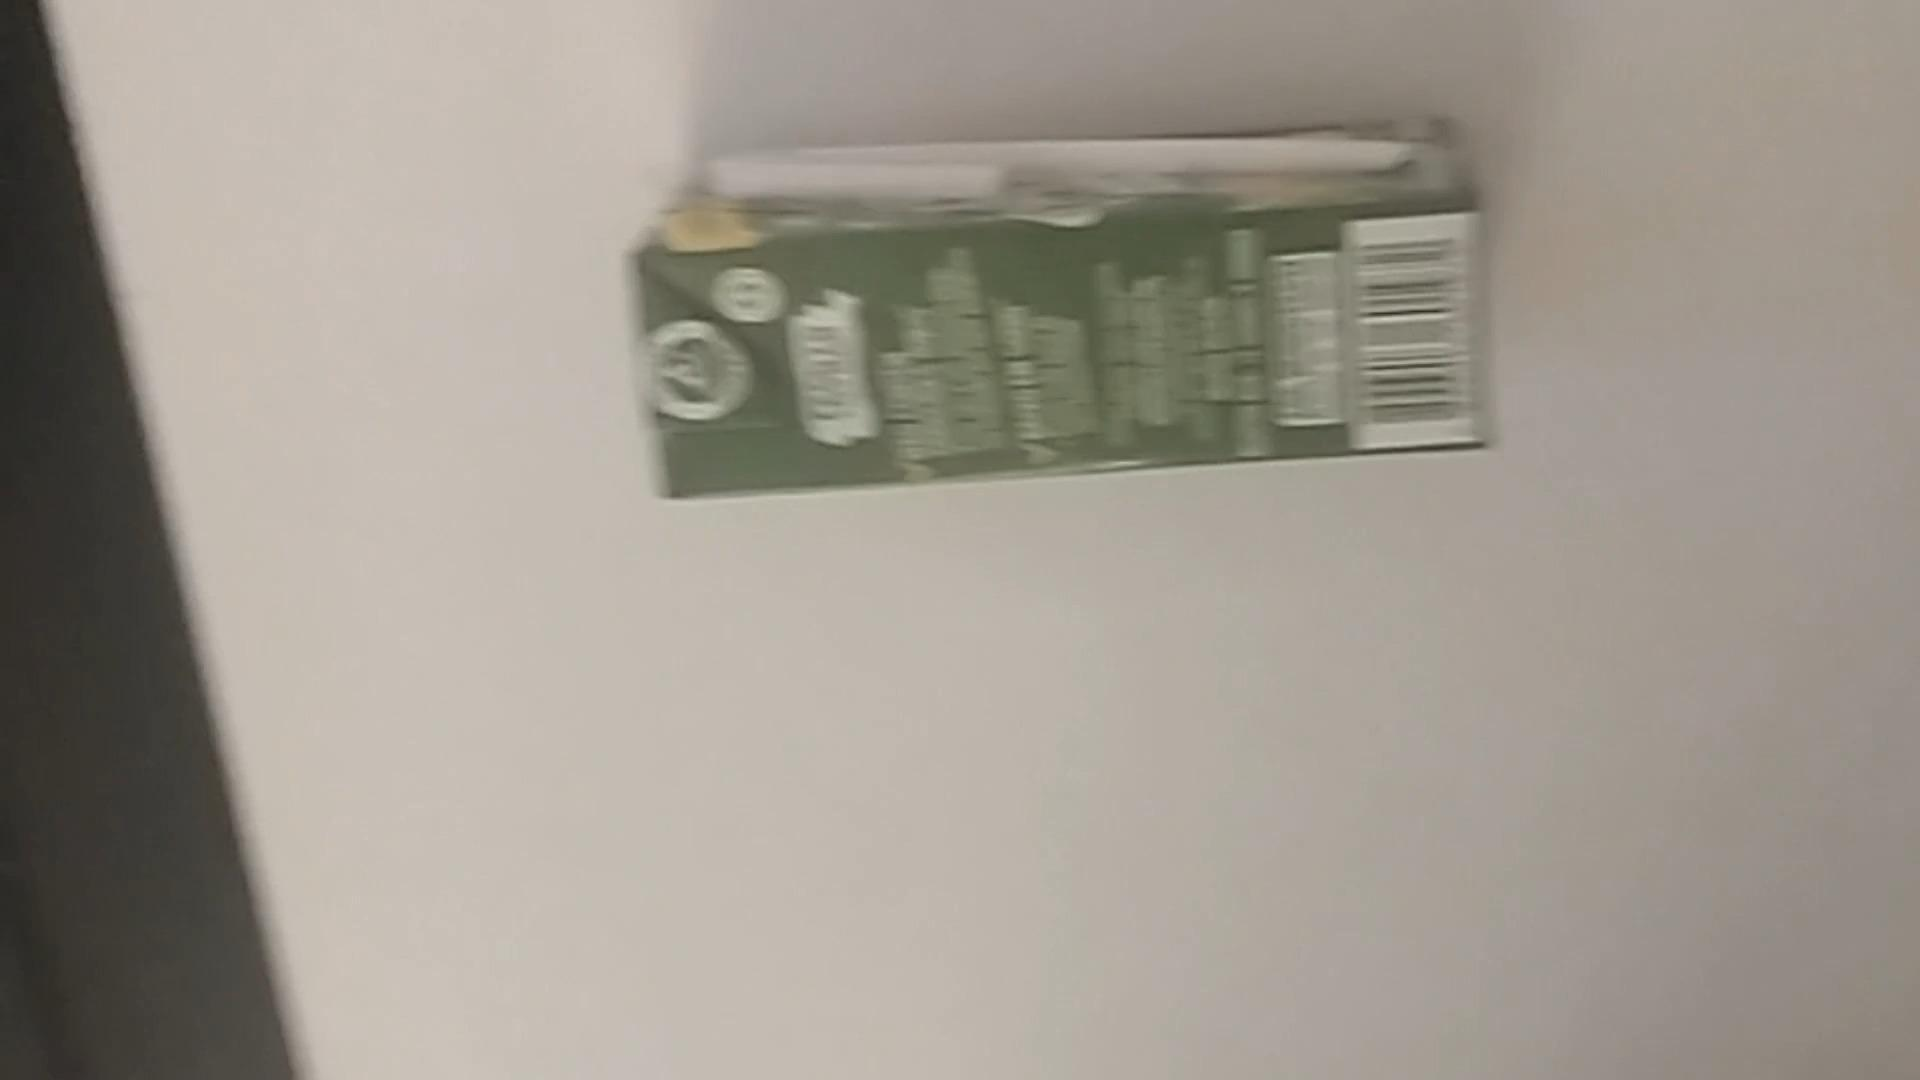coco: (625, 109, 1524, 513)
